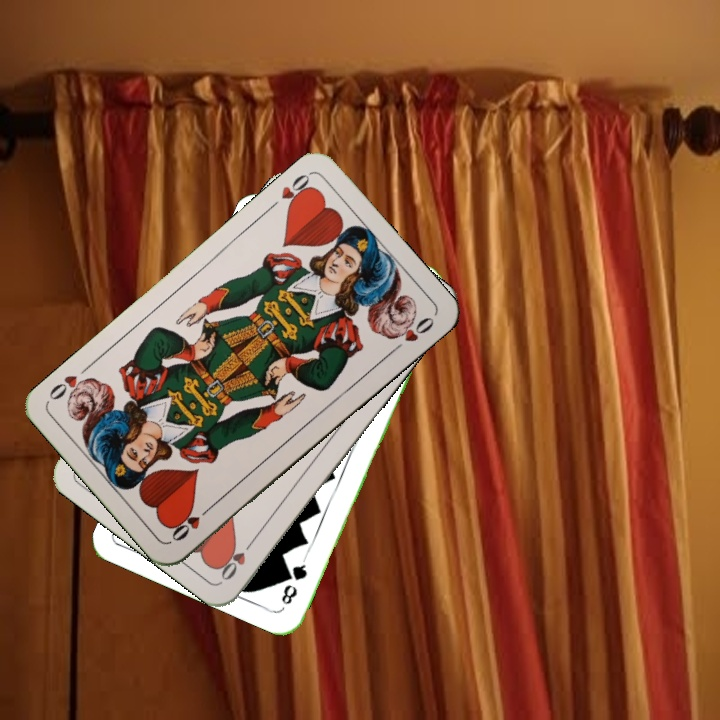G8: (277, 554, 310, 608)
HO: (264, 169, 317, 213), (215, 533, 259, 583), (167, 501, 216, 544)
